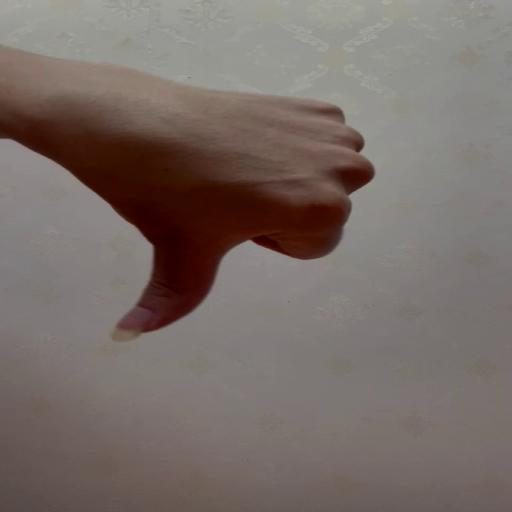thumbs_down: (42, 93, 378, 343)
